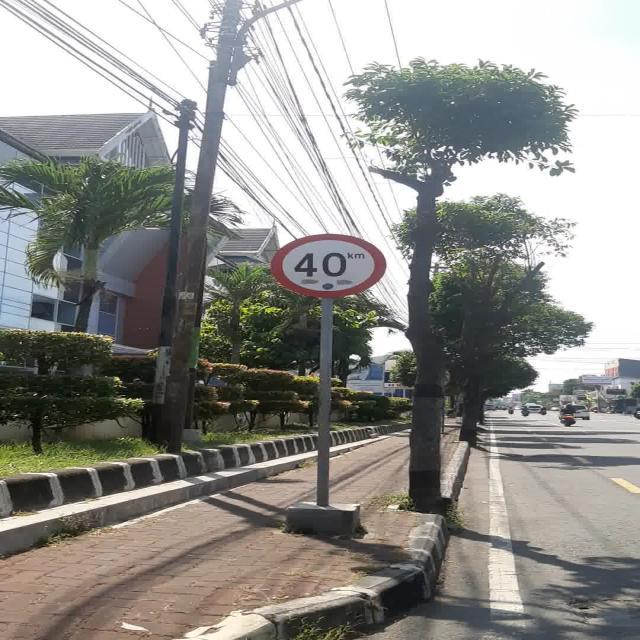Kecepatan Maks. 40 km: (270, 232, 386, 298)
